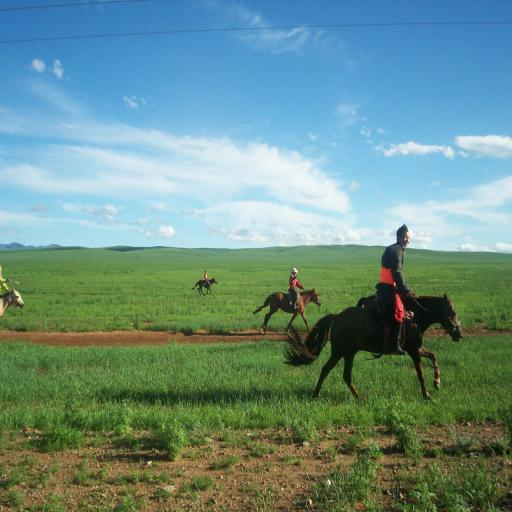Horse: (282, 290, 465, 400), (252, 289, 323, 334), (0, 288, 26, 319), (191, 277, 218, 298)
